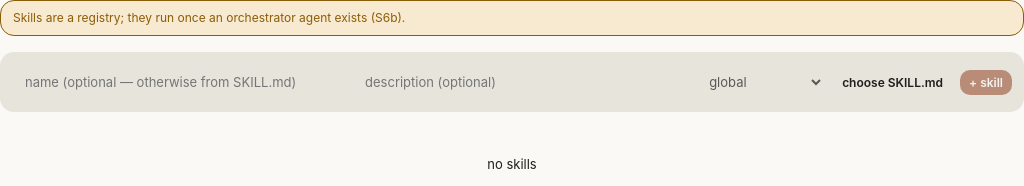
Test case: SkillsTab › submit stays disabled until a SKILL.md path is picked
This screenshot has width=1024, height=186.
Expected: the button with test id "skill-create-submit" is disabled, left=960, top=70, right=1012, bottom=94
Click the button with test id "skill-pick-path". click: (893, 82)
box: left=833, top=70, right=952, bottom=94
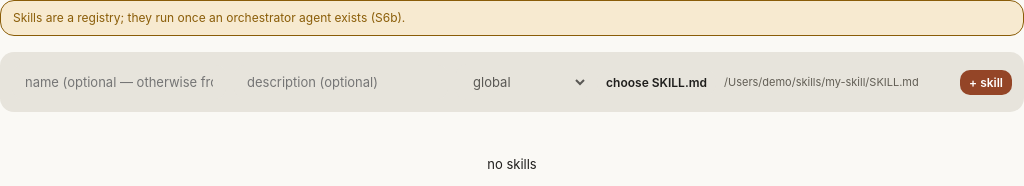
Result: the button with test id "skill-create-submit" is enabled at left=960, top=70, right=1012, bottom=94
